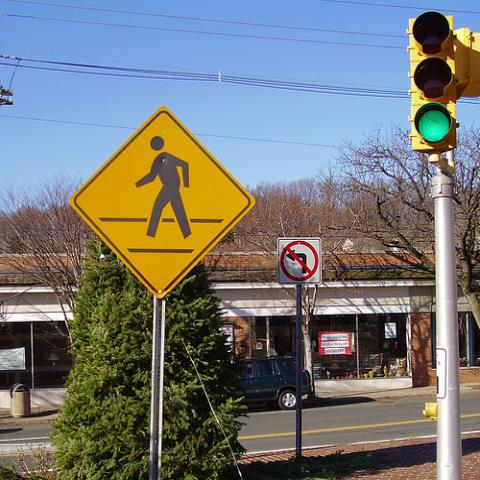car: (235, 354, 312, 410)
